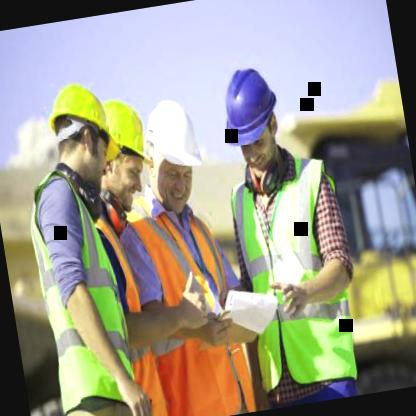helmet: (37, 70, 121, 196), (134, 92, 212, 218), (76, 83, 154, 206), (212, 56, 289, 178)
